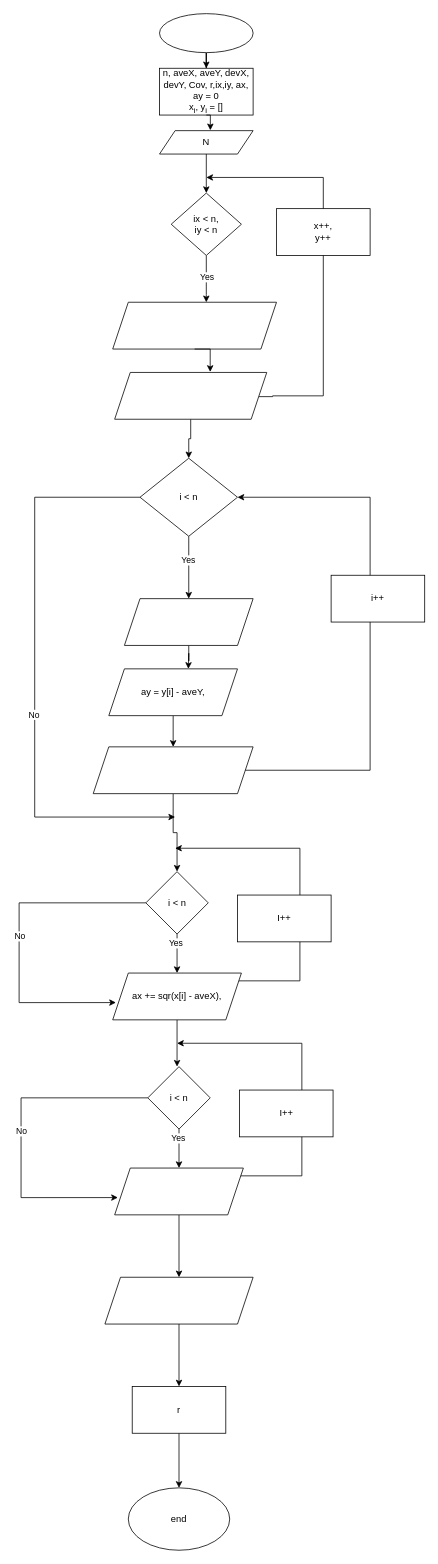
This 438x1564 diagram has some shape labels left out. The shapes that lost their labels are listed below. From the top down, each one's box as (x1, y1, x2, y2) in pixels, then its label:
(159, 13, 253, 53): Start
(112, 301, 277, 349): x[i], y[i]
(114, 372, 267, 419): AveX = aveX + x[i], AveY = aveY + y[i]
(124, 598, 253, 645): ax = x[i] - aveX,
(92, 746, 253, 794): Cov += ax * ay
(114, 1167, 243, 1215): ay += sqr(y[i] - aveY),
(104, 1276, 253, 1324): r = cov / sqrt(ax * ay)
